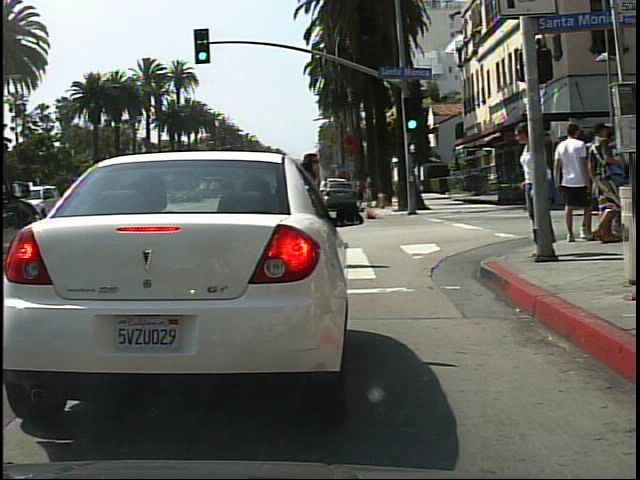person: (520, 123, 564, 265)
